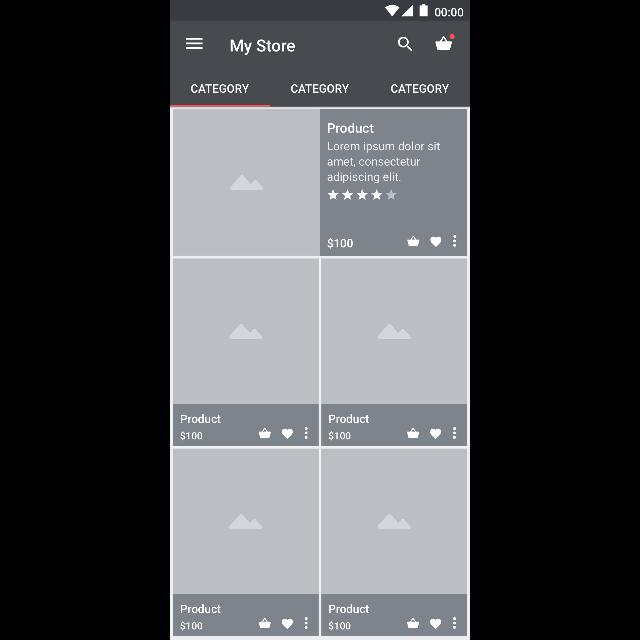icon: (327, 190, 397, 200), (435, 34, 455, 50), (398, 36, 414, 52), (185, 39, 202, 50), (282, 618, 294, 630), (430, 618, 442, 630), (408, 427, 420, 439), (430, 236, 442, 248), (258, 618, 272, 628), (258, 428, 272, 438), (282, 428, 294, 439), (408, 236, 420, 247), (406, 618, 419, 628), (431, 428, 442, 439), (453, 616, 457, 630), (304, 617, 308, 629), (453, 427, 457, 439), (453, 235, 457, 247), (306, 427, 308, 439)
image: (174, 110, 320, 256), (322, 258, 468, 404), (174, 448, 318, 594), (322, 450, 468, 594), (174, 260, 318, 404)
text: (328, 142, 440, 184), (230, 40, 296, 56), (291, 85, 349, 94), (392, 85, 450, 94), (192, 84, 250, 92), (328, 123, 374, 133), (330, 414, 370, 424), (181, 414, 221, 424), (181, 604, 221, 614), (329, 604, 369, 614), (328, 238, 354, 248), (329, 431, 351, 441), (181, 431, 203, 441), (329, 621, 351, 631), (181, 621, 203, 631)
uppertaskbar: (170, 1, 470, 21)
